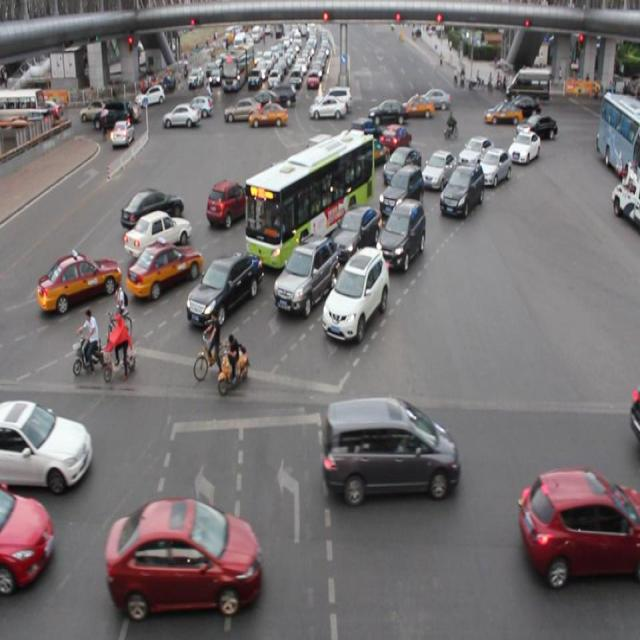car: (109, 494, 262, 614), (518, 468, 640, 576), (1, 396, 91, 485), (323, 244, 388, 340), (1, 487, 55, 594), (189, 255, 262, 319), (273, 238, 336, 308), (40, 254, 120, 307), (127, 242, 201, 298), (376, 200, 425, 267), (124, 212, 191, 258), (330, 205, 381, 262), (122, 187, 184, 233), (439, 161, 483, 221), (377, 163, 424, 216), (207, 179, 250, 224), (381, 144, 420, 190), (321, 146, 362, 189), (476, 147, 511, 190), (269, 157, 308, 195), (420, 148, 456, 186), (457, 136, 492, 171), (506, 129, 540, 165), (347, 117, 382, 151), (378, 122, 410, 154), (356, 134, 387, 165)
truck: (320, 394, 458, 500), (301, 135, 345, 174)
van: (246, 136, 372, 265)
